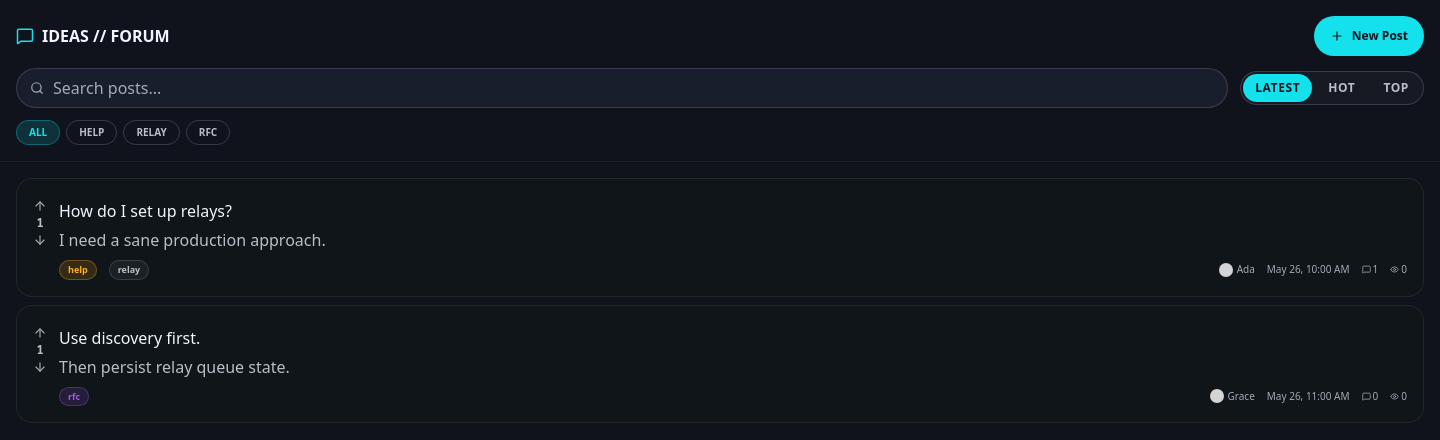
Test: ForumChannel backend wiring › surfaces a reply failure and keeps the draft
Click the button "How do I set up relays?" at x=145, y=214, box [59, 200, 232, 228]
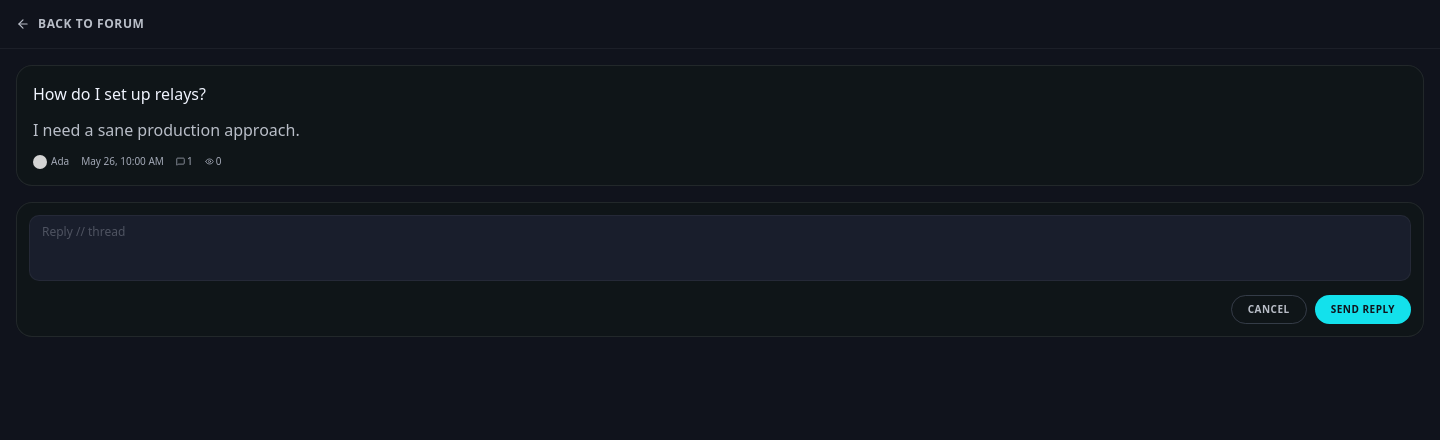
Type "Try the relay queue" into the text box with placeholder "Reply // thread" at x=720, y=248, box [29, 215, 1411, 281]
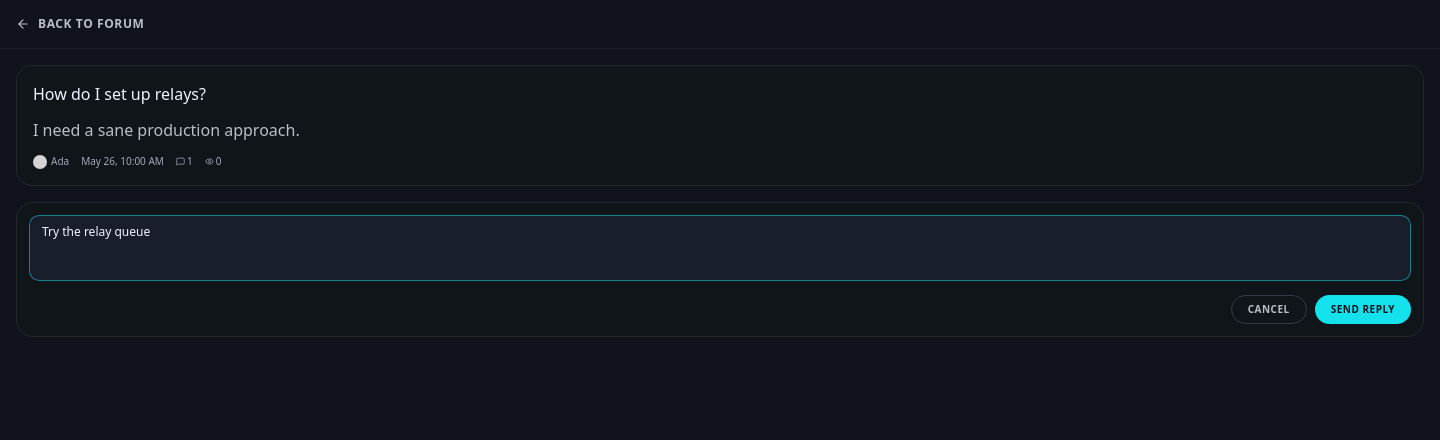
Click the button "Send Reply" at x=1363, y=310, box [1315, 295, 1411, 324]
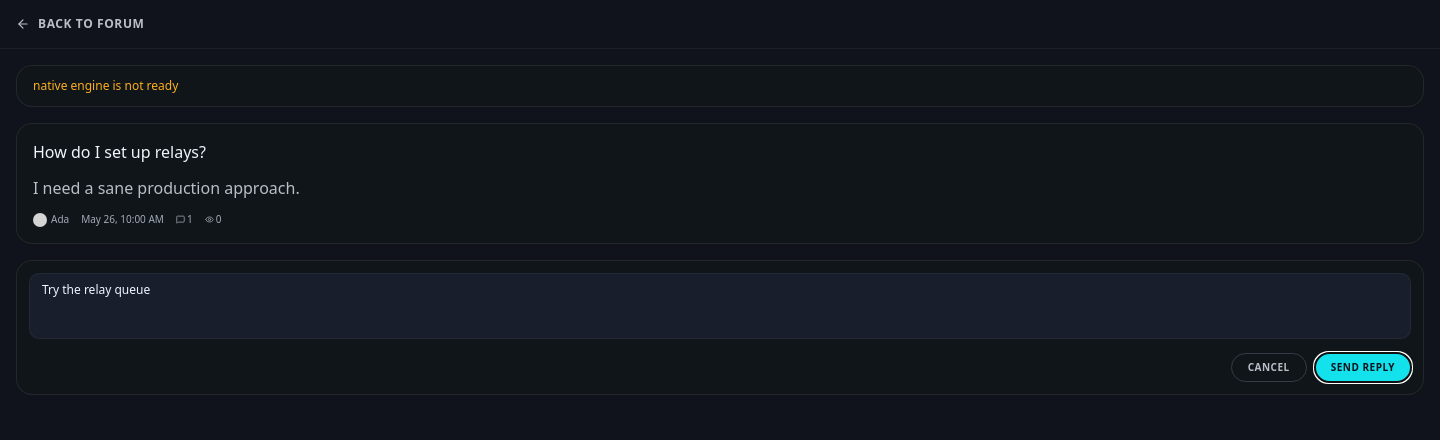
Result: the message reads "native engine is not ready" at [33, 77, 178, 94]
